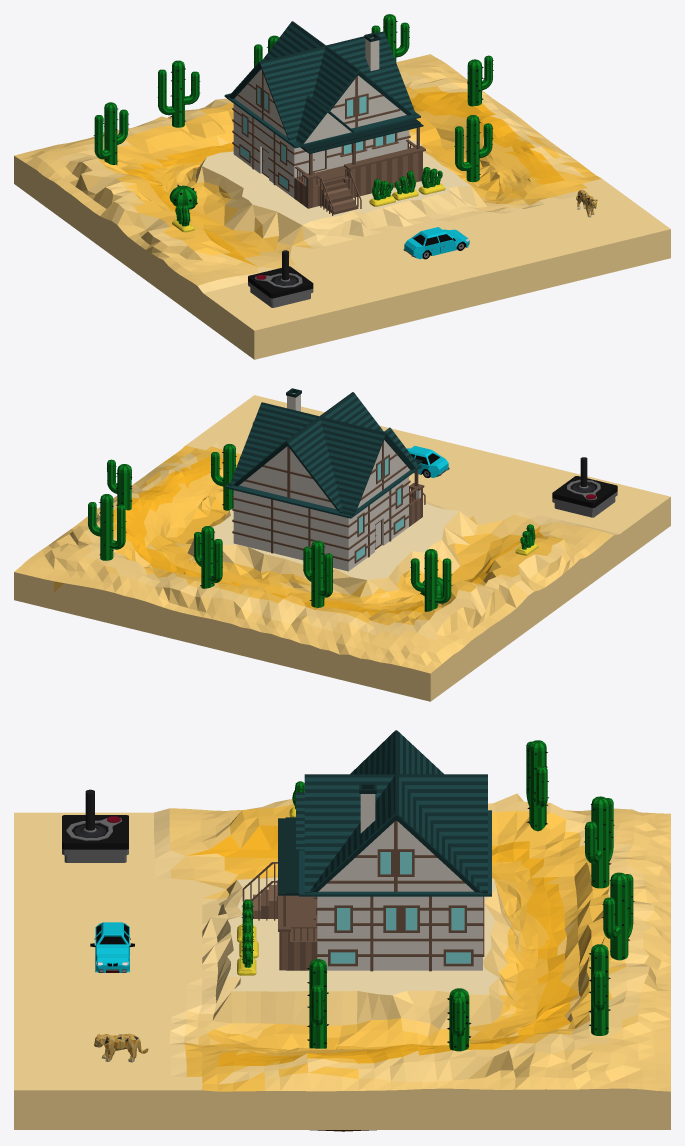
3 views of the same model, one above another, from view 1: azimuth 30°, elevation 25°; view 2: azimuth 150°, elevation 25°; view 3: azimuth 270°, elevation 25° (orthographic). The views are drawn at different scales.
Parts seen in each view (by area): view 1: Cube.001, Cube.793, OBJRANDOM_JOYSTICK, Cylinder.037, Cylinder.044, Cylinder.045, VEHICLES_CAR, Cylinder.038, Cylinder.042, Cylinder.039, Cylinder.041, Sphere.023 (+1 smaller); view 2: Cube.001, Cube.793, OBJRANDOM_JOYSTICK, Cylinder.042, Cylinder.045, Cylinder.044, Cylinder.043, Cylinder.037, Cylinder.038, VEHICLES_CAR; view 3: Cube.001, Cube.793, OBJRANDOM_JOYSTICK, Cylinder.043, Cylinder.044, Cylinder.045, VEHICLES_CAR, Cylinder.042, Cylinder.037, Cylinder.038, ANIMAL_JAGUAR, Cylinder.041.
Part boxes in pixels (<box>): Cube.001: <box>14,54,670,359</box>; Cube.793: <box>224,21,425,215</box>; OBJRANDOM_JOYSTICK: <box>248,250,313,307</box>; Cylinder.037: <box>454,115,493,182</box>; Cylinder.044: <box>157,60,200,127</box>; Cylinder.045: <box>93,102,129,164</box>; VEHICLES_CAR: <box>403,227,469,259</box>; Cylinder.038: <box>467,55,493,106</box>; Cylinder.042: <box>371,14,409,62</box>; Cylinder.039: <box>369,179,395,206</box>; Cylinder.041: <box>418,167,445,194</box>; Sphere.023: <box>169,184,197,209</box>; Cube.001: <box>14,395,670,701</box>; Cube.793: <box>225,388,425,571</box>; OBJRANDOM_JOYSTICK: <box>552,457,617,517</box>; Cylinder.042: <box>88,494,126,560</box>; Cylinder.045: <box>410,549,452,611</box>; Cylinder.044: <box>303,540,333,607</box>; Cylinder.043: <box>193,526,222,588</box>; Cylinder.037: <box>211,444,240,510</box>; Cylinder.038: <box>107,459,131,510</box>; VEHICLES_CAR: <box>407,445,449,477</box>; Cube.001: <box>14,793,670,1129</box>; Cube.793: <box>242,730,491,971</box>; OBJRANDOM_JOYSTICK: <box>62,789,128,862</box>; Cylinder.043: <box>602,872,634,960</box>; Cylinder.044: <box>584,796,614,888</box>; Cylinder.045: <box>526,740,548,831</box>; VEHICLES_CAR: <box>90,922,134,972</box>; Cylinder.042: <box>588,944,610,1035</box>; Cylinder.037: <box>307,959,328,1048</box>; Cylinder.038: <box>447,988,471,1051</box>; ANIMAL_JAGUAR: <box>94,1033,148,1062</box>; Cylinder.041: <box>237,932,256,975</box>.
Bounding box in the file's own units: 4002 × 1693 × 4001.
36 materials, 3 textured.
